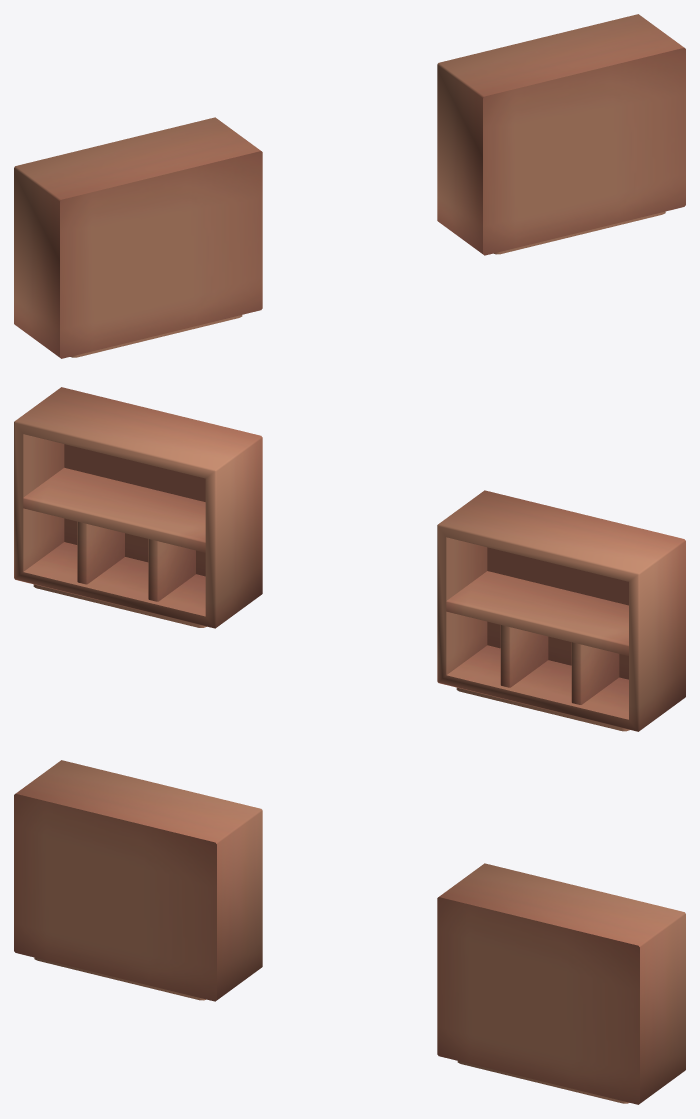
Rendered from BookShelves1.1.fbx.
3 views of the same model, one above another, from view 1: azimuth 30°, elevation 25°; view 2: azimuth 150°, elevation 25°; view 3: azimuth 330°, elevation 25° (orthographic).
Parts seen in each view (by area): view 1: BookShelves1.1; view 2: BookShelves1.1; view 3: BookShelves1.1.
Boxes of the visible parts, box(x1,y1,x2,y2) form: BookShelves1.1: box(14, 14, 685, 358); BookShelves1.1: box(14, 387, 685, 731); BookShelves1.1: box(14, 760, 685, 1104).
Size of the model in its own units: 0.6103 by 4.71 by 1.18.
